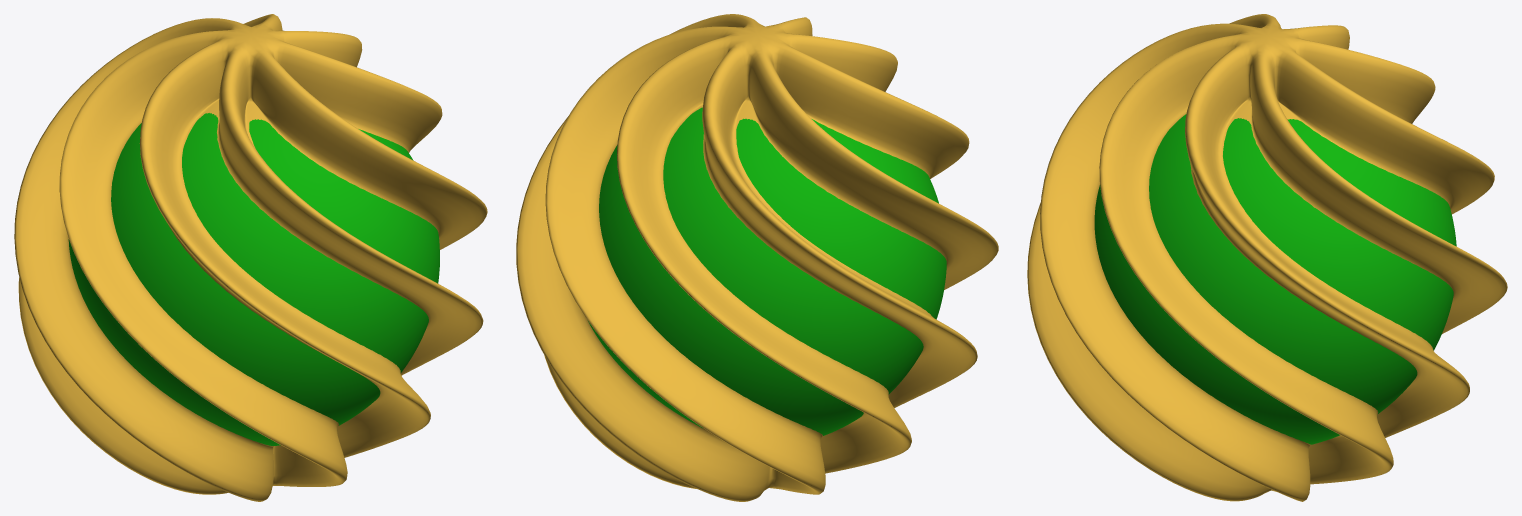
File: green_gold_spiral.glb
3 views of the same model, side by side, from view 1: azimuth 30°, elevation 25°; view 2: azimuth 150°, elevation 25°; view 3: azimuth 270°, elevation 25° (orthographic).
Parts seen in each view (by area): view 1: Sphere.014; view 2: Sphere.014; view 3: Sphere.014.
Part boxes in pixels (left/top/right/bottom): Sphere.014: left=14, top=14, right=487, bottom=501; Sphere.014: left=516, top=14, right=998, bottom=501; Sphere.014: left=1027, top=14, right=1507, bottom=501.
Size of the model in its own units: 2.5 by 2.57 by 2.5.
